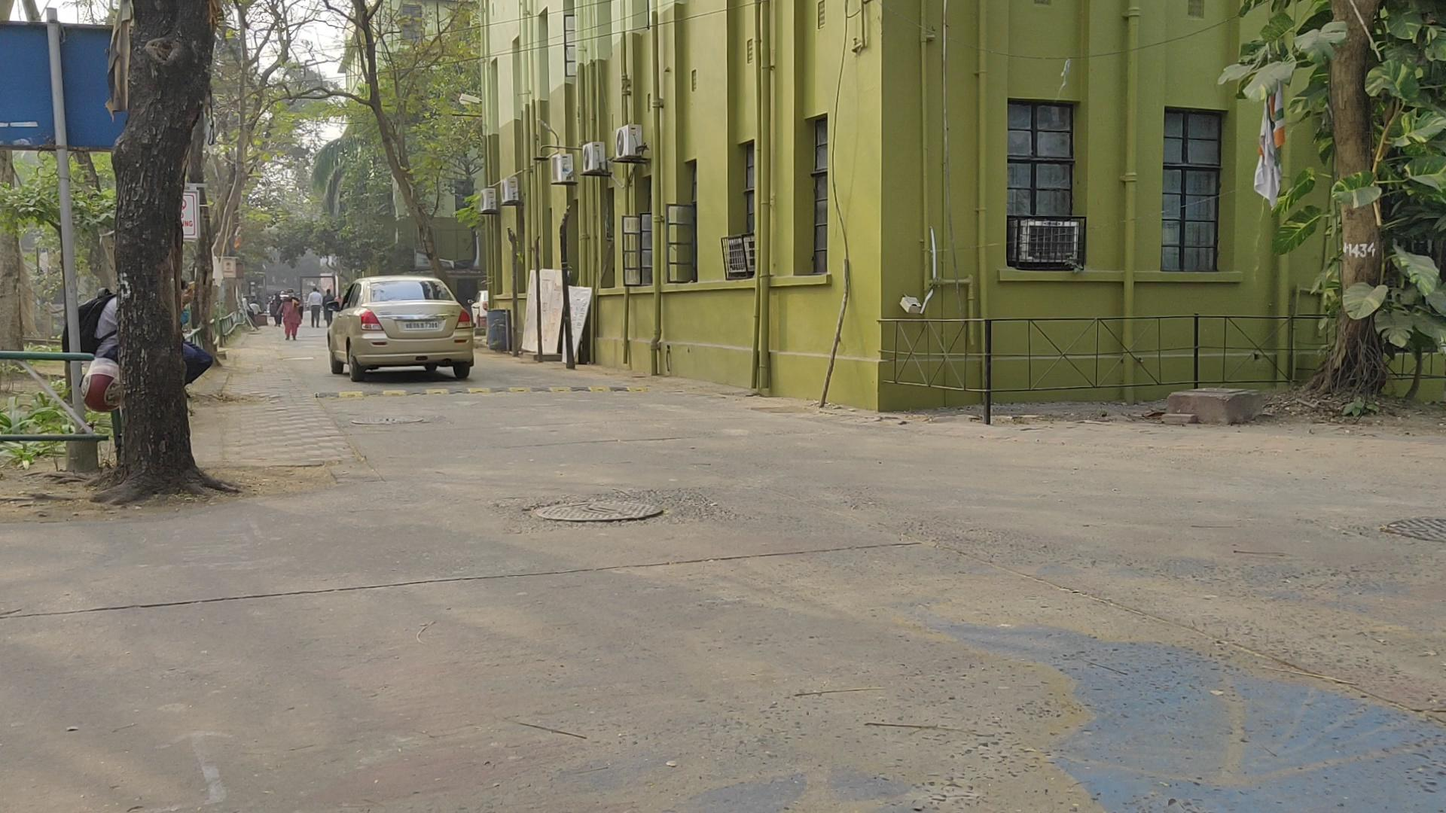car: (327, 278, 473, 382)
